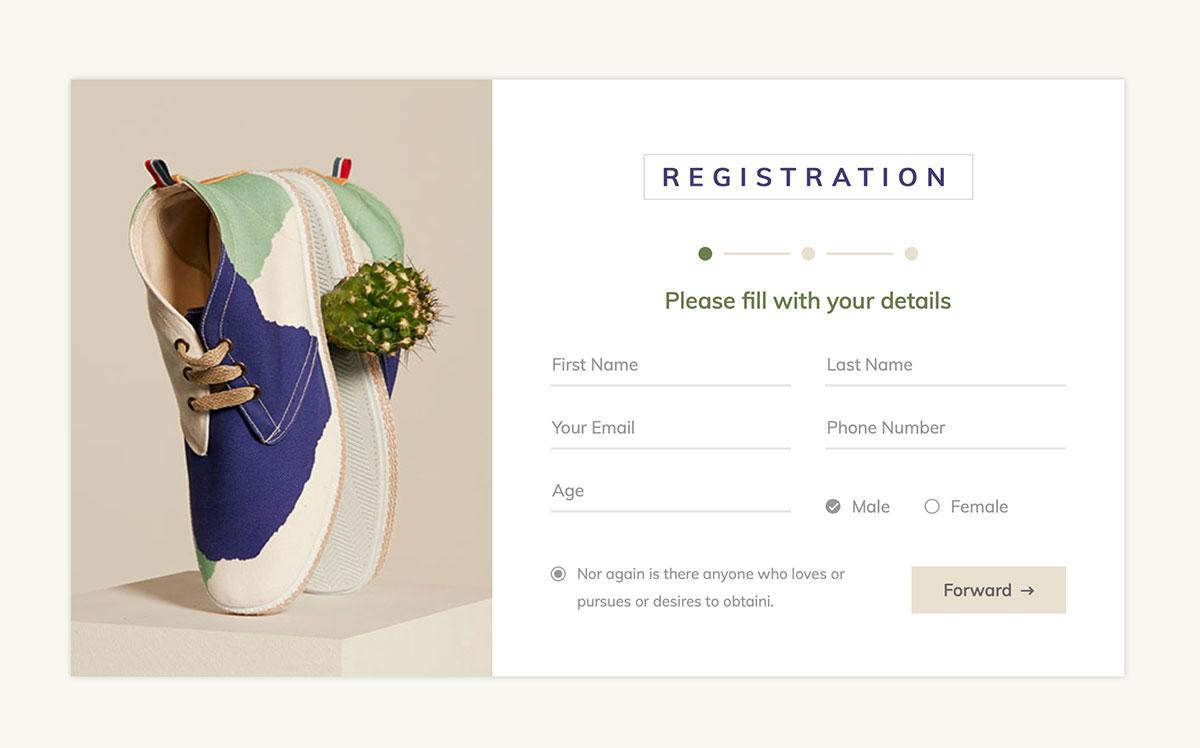button: (912, 567, 1068, 615)
checkbox: (825, 496, 845, 518)
label: (577, 560, 856, 619), (948, 498, 1009, 516), (848, 497, 893, 518)
radio: (550, 565, 568, 587), (925, 499, 941, 519)
